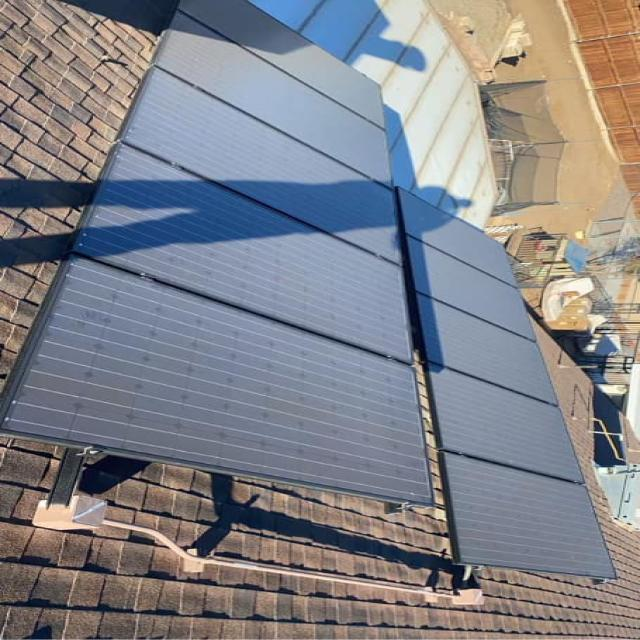dust-solar-panel: (12, 0, 617, 584)
